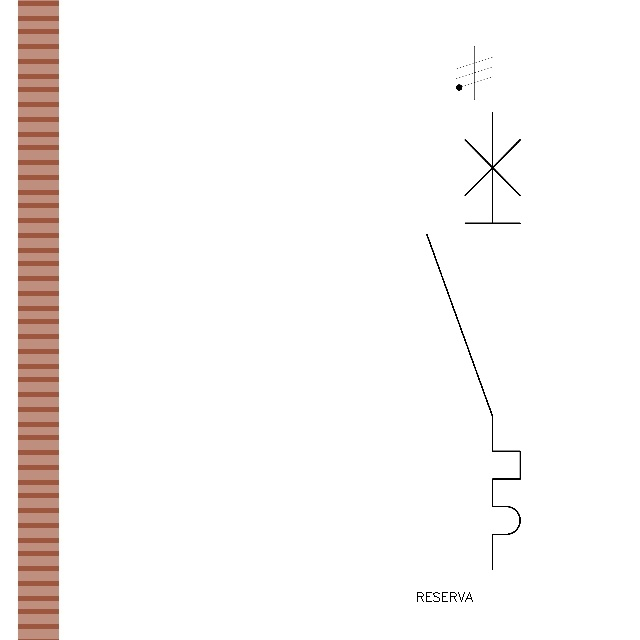interruptor_termomagnetico: (415, 100, 532, 580)
